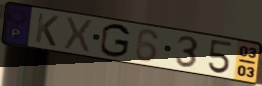3: (174, 35, 202, 70)
5: (207, 38, 234, 76)
6: (134, 28, 163, 64)
G: (98, 22, 132, 59)
K: (33, 11, 61, 48)
X: (62, 15, 95, 55)
